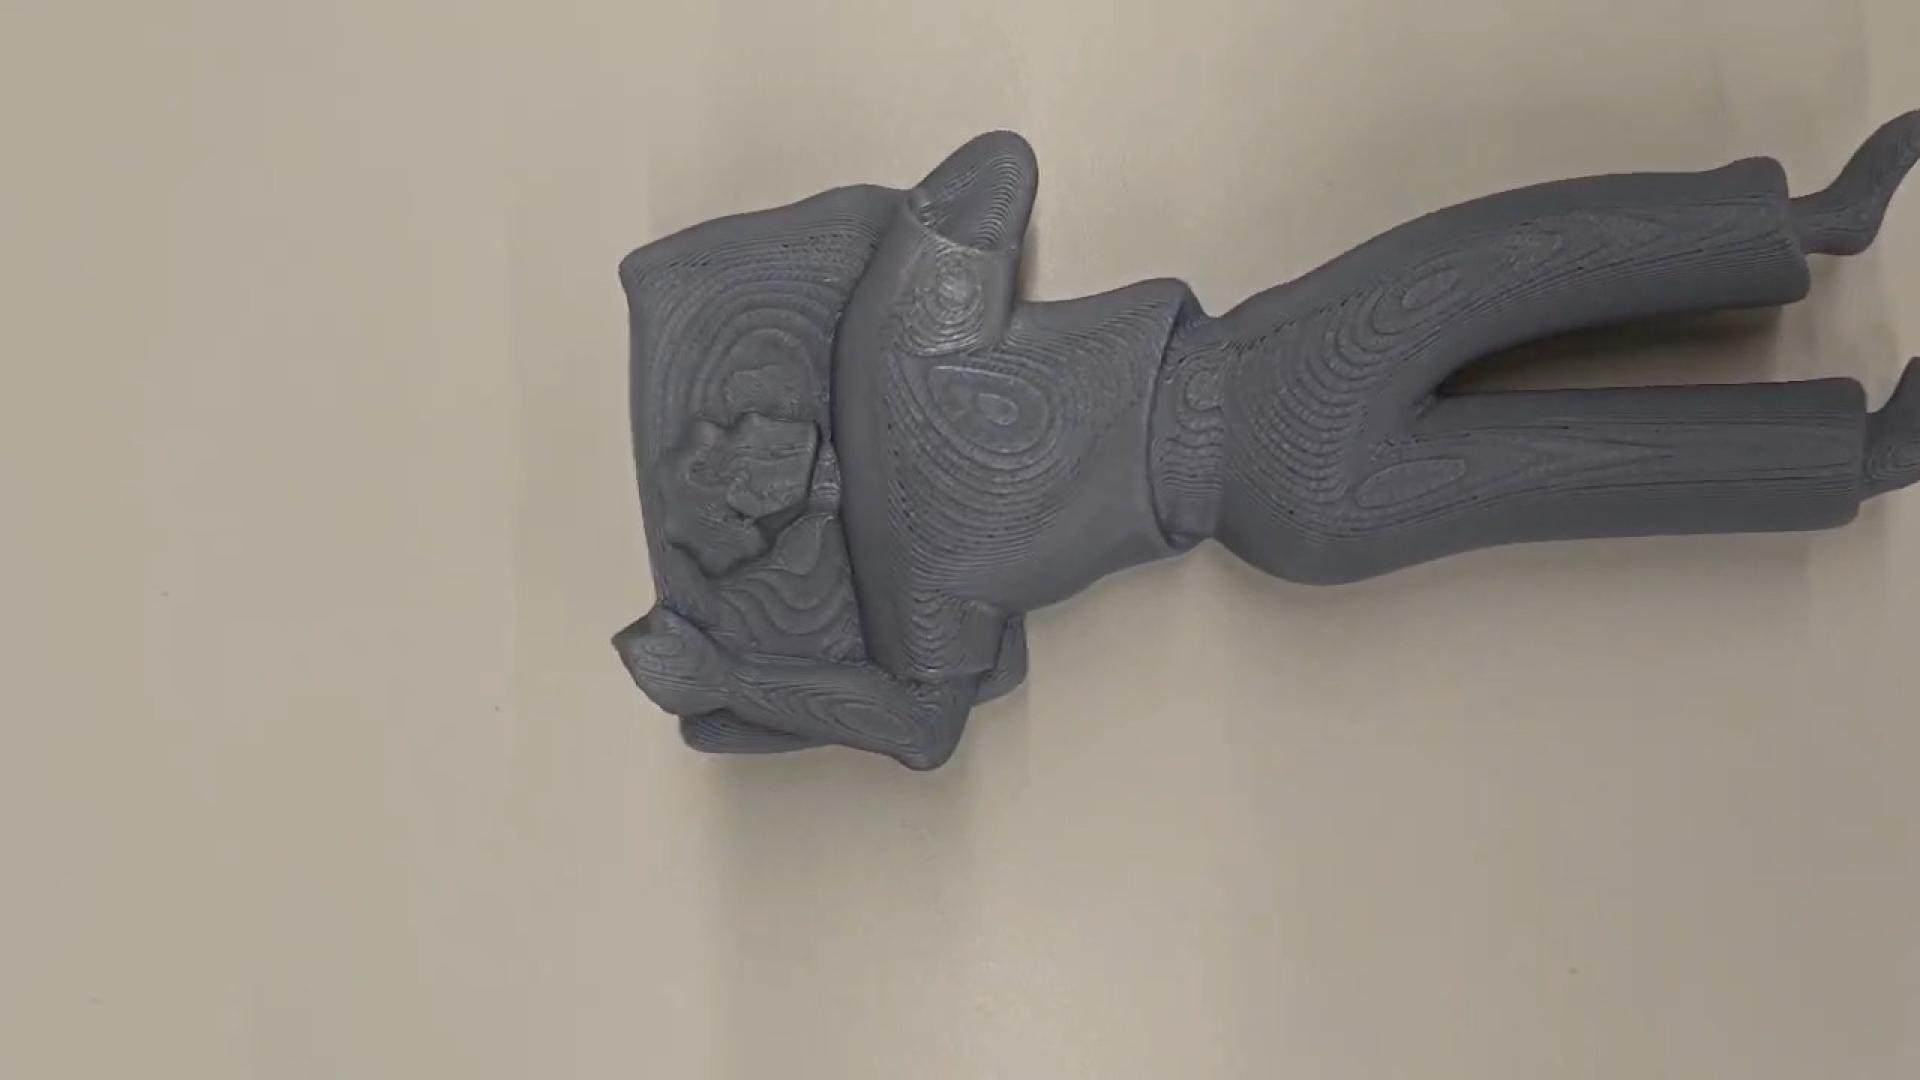Bad-style: (603, 100, 1920, 770)
